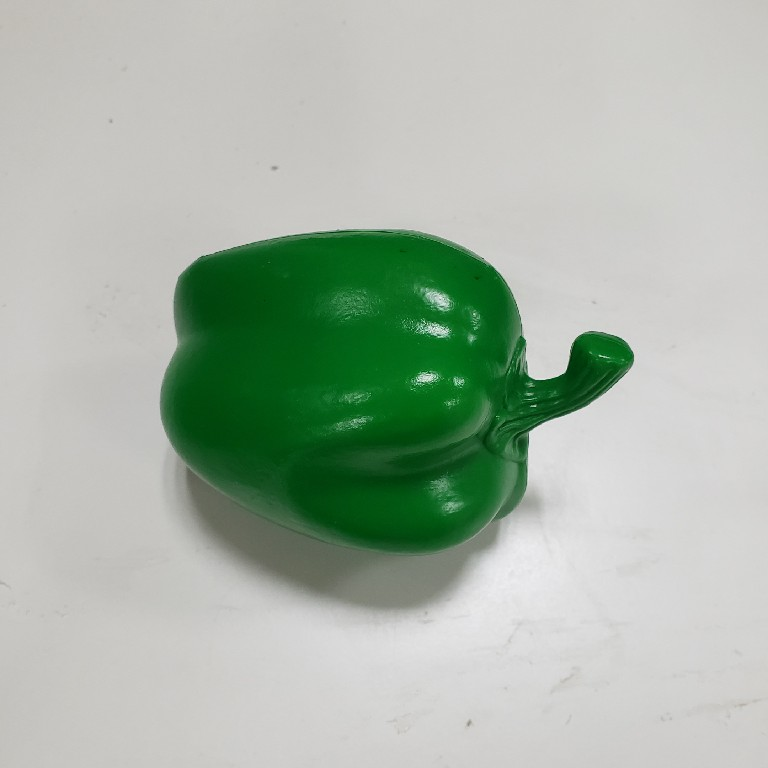fruit_pepper: (154, 224, 640, 558)
